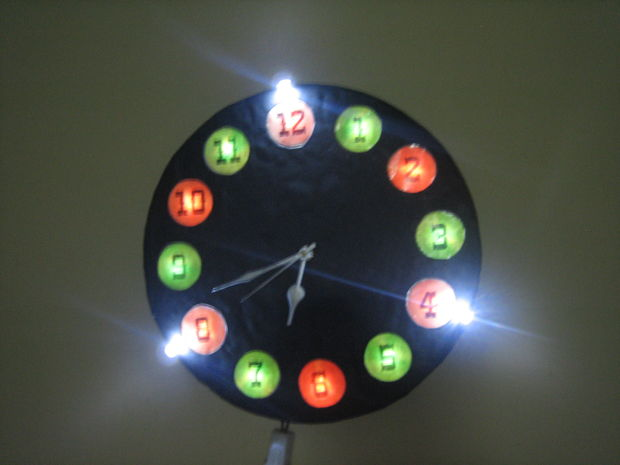clock: (146, 84, 481, 424)
